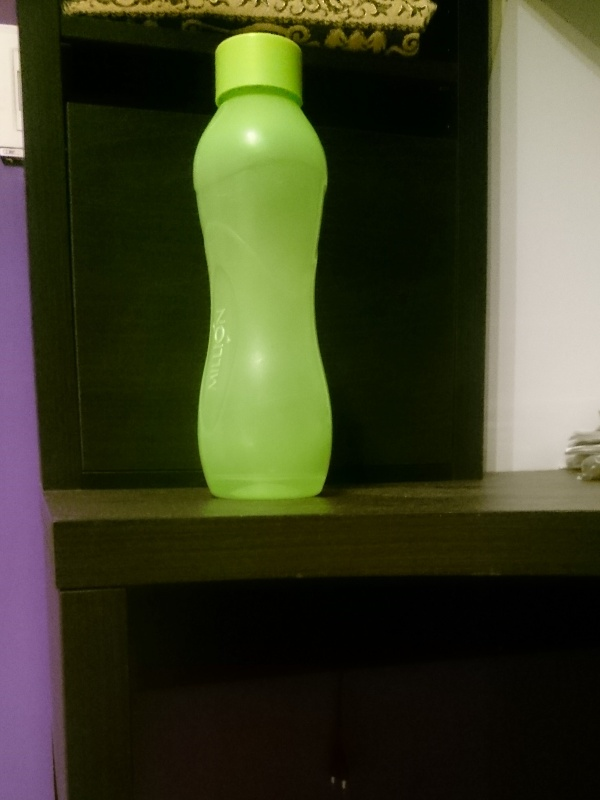my bottle: (192, 32, 333, 501)
